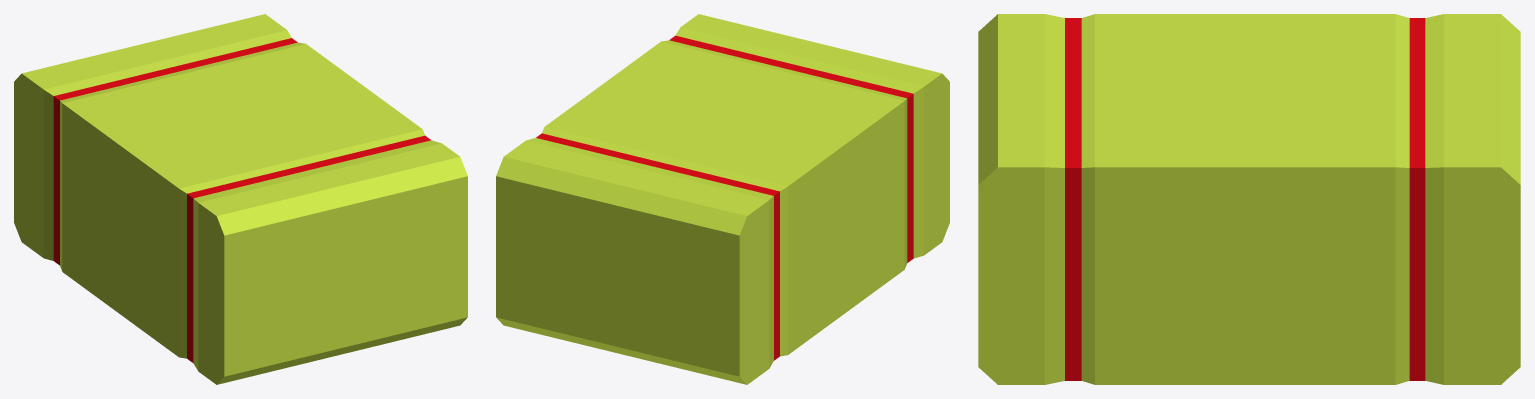
File: Bale.glb
3 renders of one model, left to right at view 1: azimuth 30°, elevation 25°; view 2: azimuth 150°, elevation 25°; view 3: azimuth 270°, elevation 25°, orthographic. The views are drawn at different scales.
Visible parts, largest first — view 1: Cube; view 2: Cube; view 3: Cube.
Part boxes in pixels (x1,y1,x2,y2): Cube: (14,14,467,384); Cube: (496,14,949,384); Cube: (978,14,1520,384).
Bounding box in the file's own units: 3.02 × 2 × 4.52.
